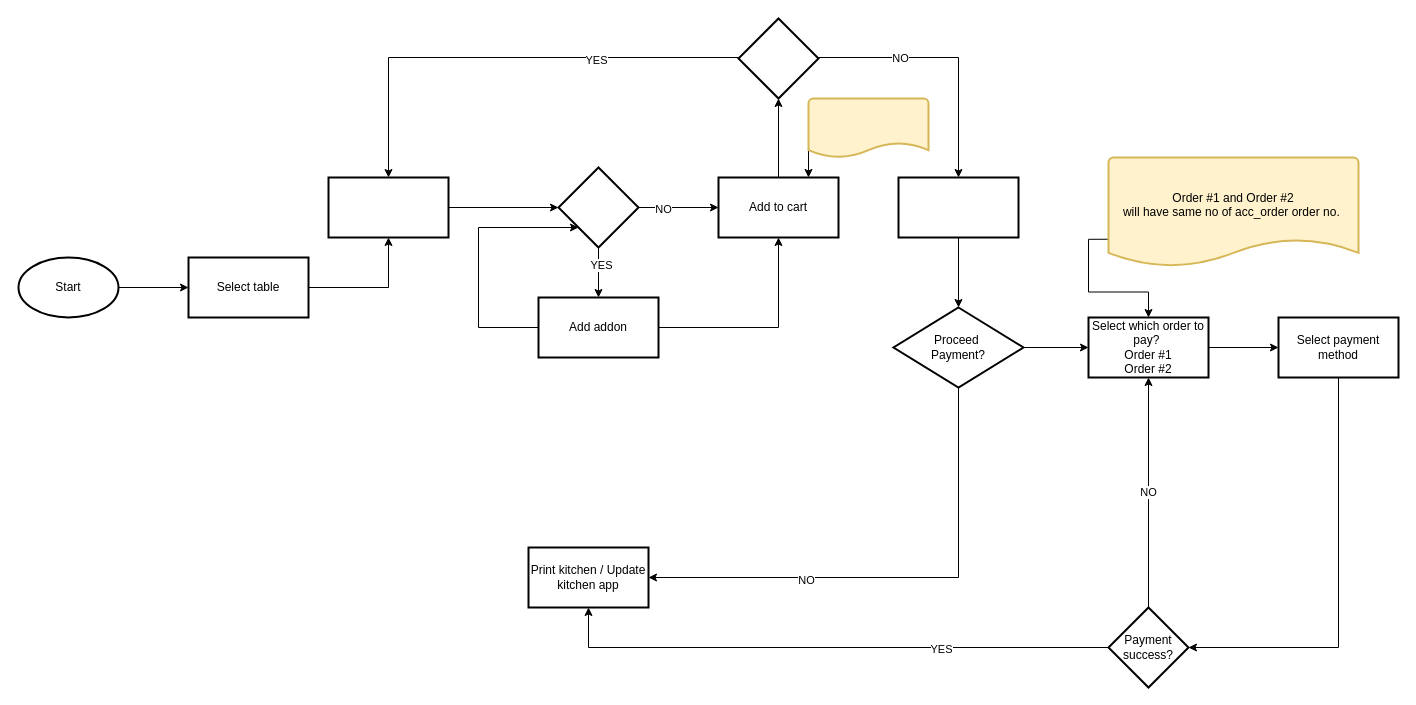
Image size: 1416x705. Some labels were removed from this diagram. The shapes that lost their labels are listed below. From the top down, each one's centre as x and y in pixels, then its label:
At point (778, 58): "New order?".
At point (868, 127): "Order #1 Order #2 Order #3".
At point (388, 207): "Select menu".
At point (598, 207): "Add addon?".
At point (958, 207): "Confirm order".
